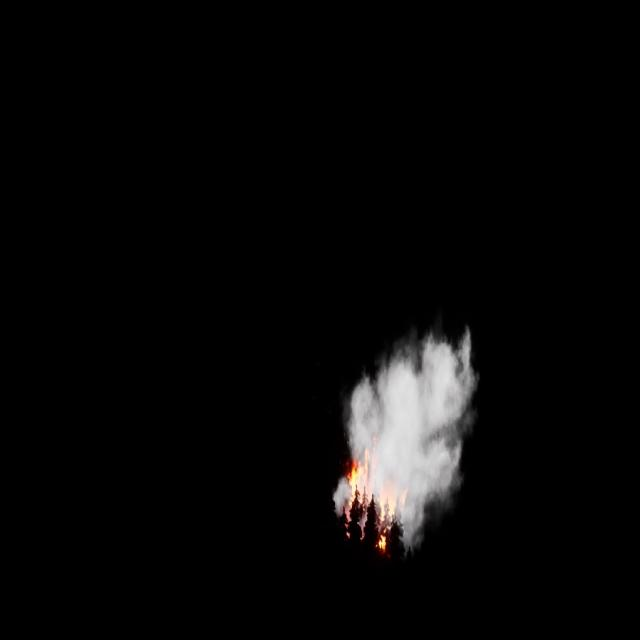fire: (346, 442, 409, 555)
smoke: (334, 323, 477, 541)
